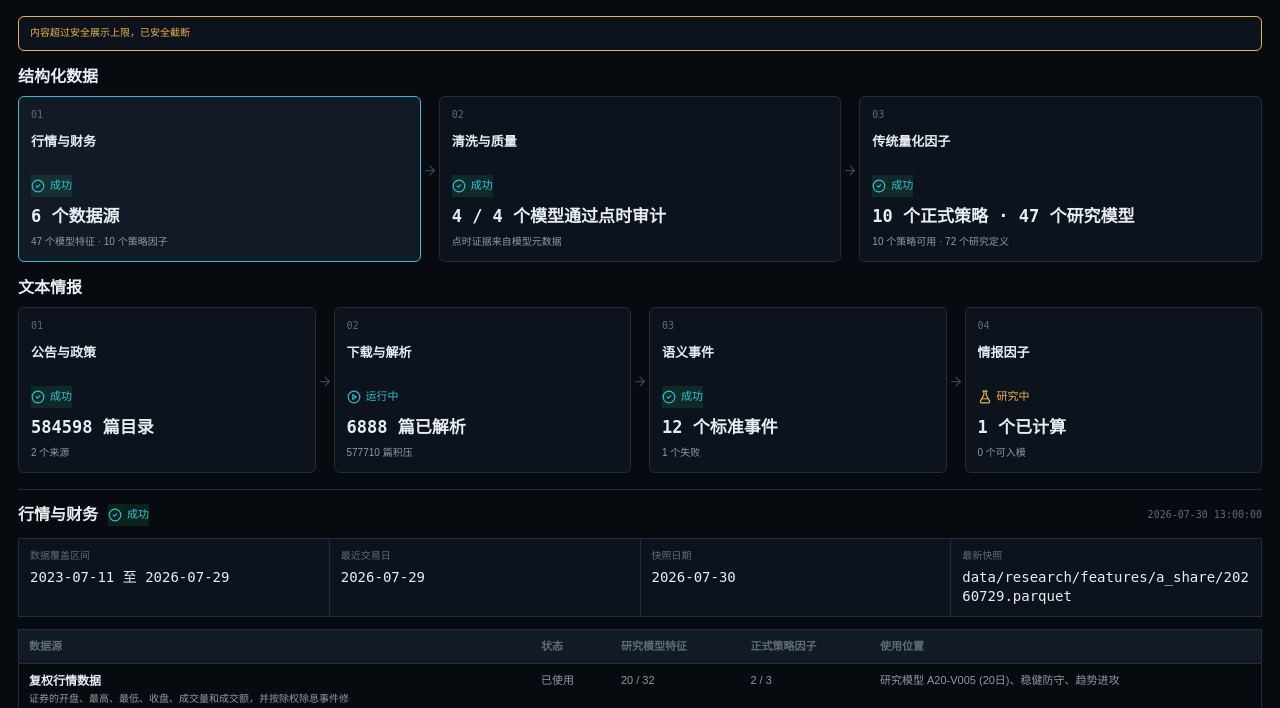
DataIntelligencePage › preserves structured data when a truncated intelligence lane is partial
Click the button "02 下载与解析 运行中 6888 篇已解析 577710 篇积压". click: click(379, 352)
box: [334,306,631,472]
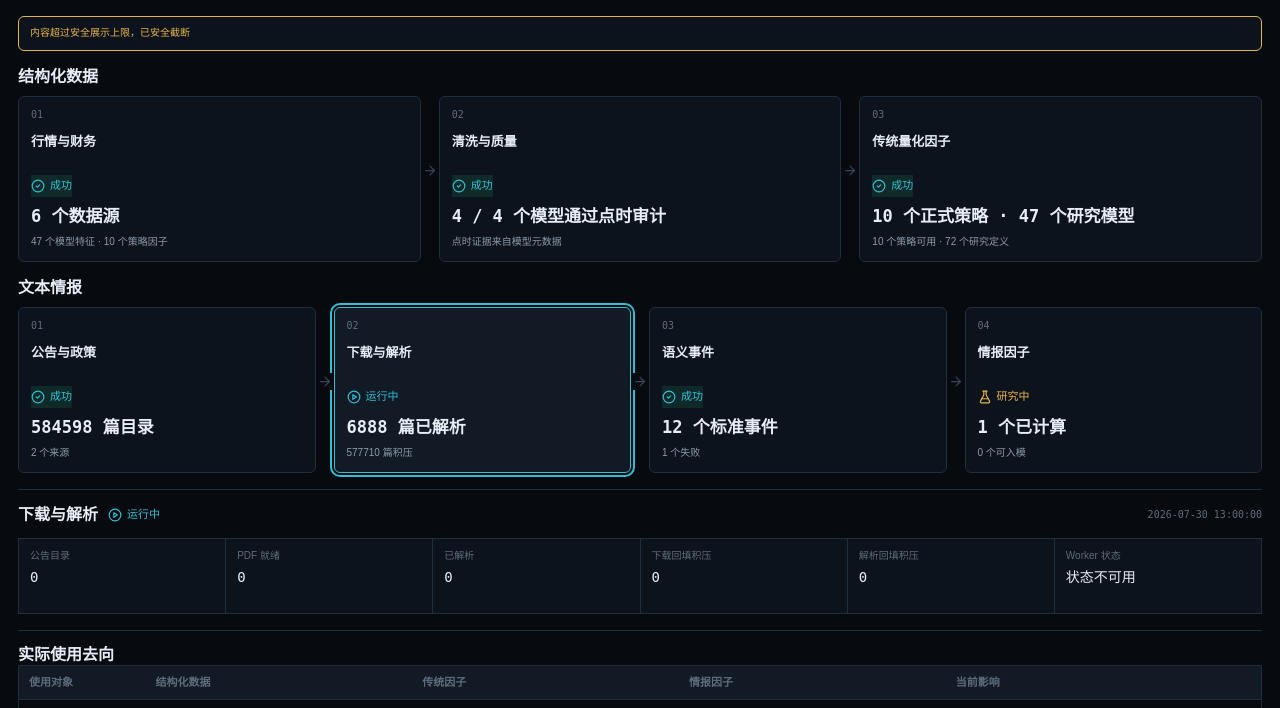
Expected: the text "0" below "公告目录" is shown, [30,569,38,585]
Result: the text "公告目录" is shown at [30,550,70,560]
Result: the text "状态不可用" is shown at [1066,569,1136,585]
